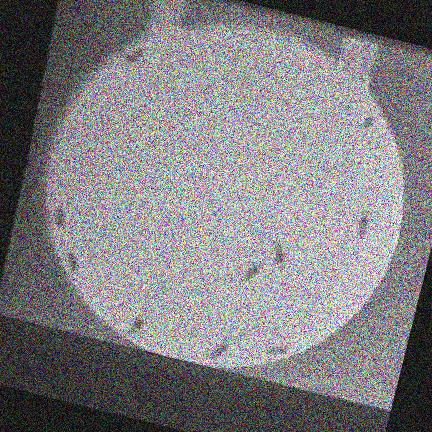fly: (241, 262, 263, 282), (209, 341, 228, 360), (124, 48, 144, 66), (356, 212, 369, 237), (126, 317, 143, 336), (53, 205, 65, 229), (273, 242, 284, 268), (64, 250, 77, 272), (266, 345, 288, 356), (360, 117, 373, 130)
